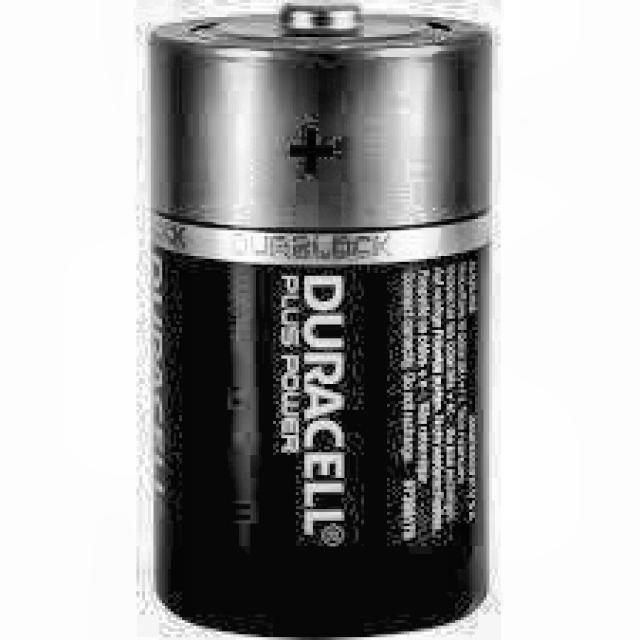Battery: (148, 0, 495, 637)
